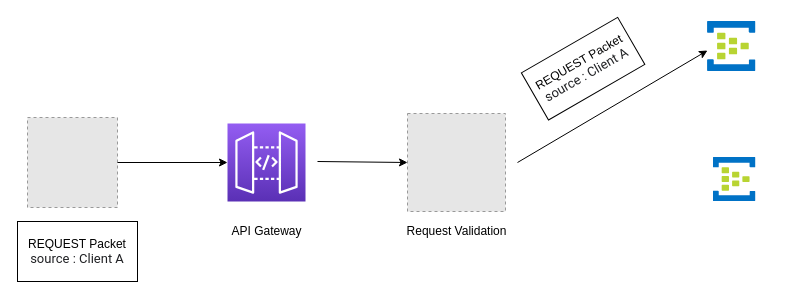
This 803x300 diagram has some shape labels left out. Grey dashed boxes stand in for pictures. The shapes that lost their labels are listed below. From the top down, each one's centre as x and y in pixels, then its label:
the point at 731,46: Cilent A Event Hub
the point at 734,179: Cilent B Event Hub
